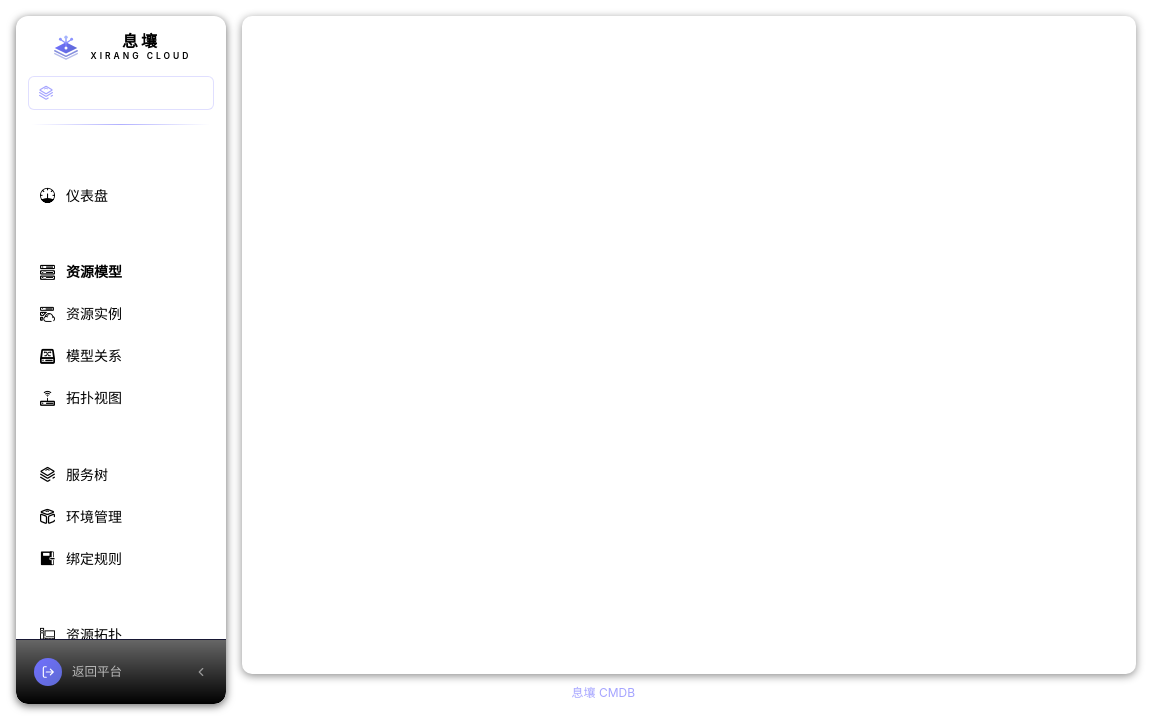
Test: AppShell 侧栏状态 › 折叠按钮切换 sidebarCollapsed，折叠后隐藏分组标题与菜单文字
The image size is (1152, 720).
Click the button with class "collapse-btn": (201, 672) [188,659,214,685]
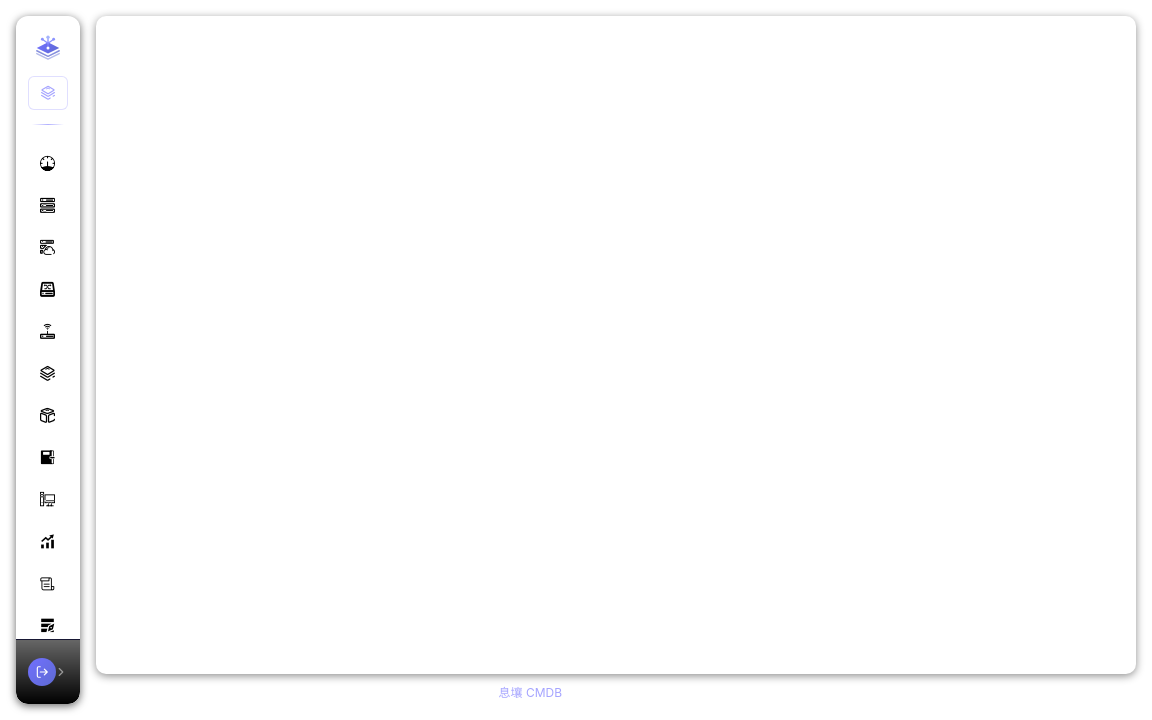
expect no elements with class "menu-group-title" are shown: met
Click the button with class "collapse-btn": (61, 672) [48,659,74,685]
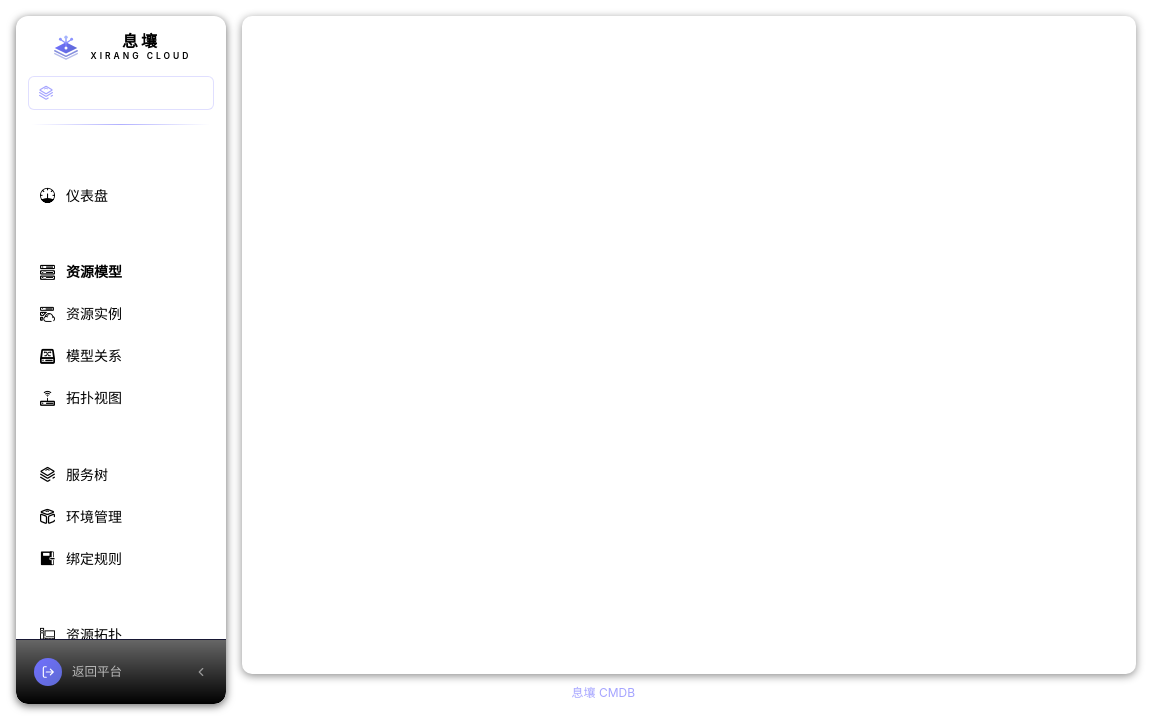
expect the text "仪表盘" is shown: met, box [66,186,108,204]
